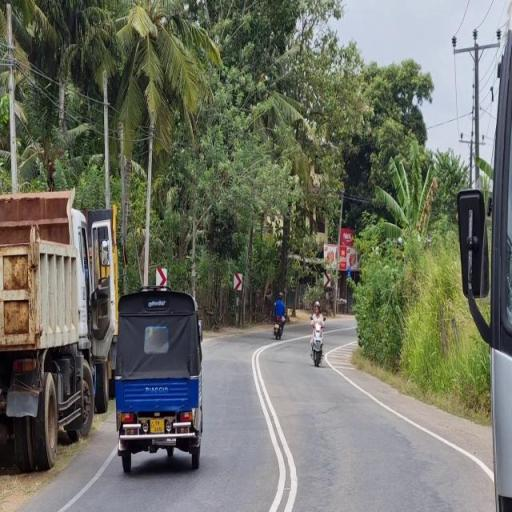double_white_line: (252, 342, 297, 511), (56, 448, 116, 512)
